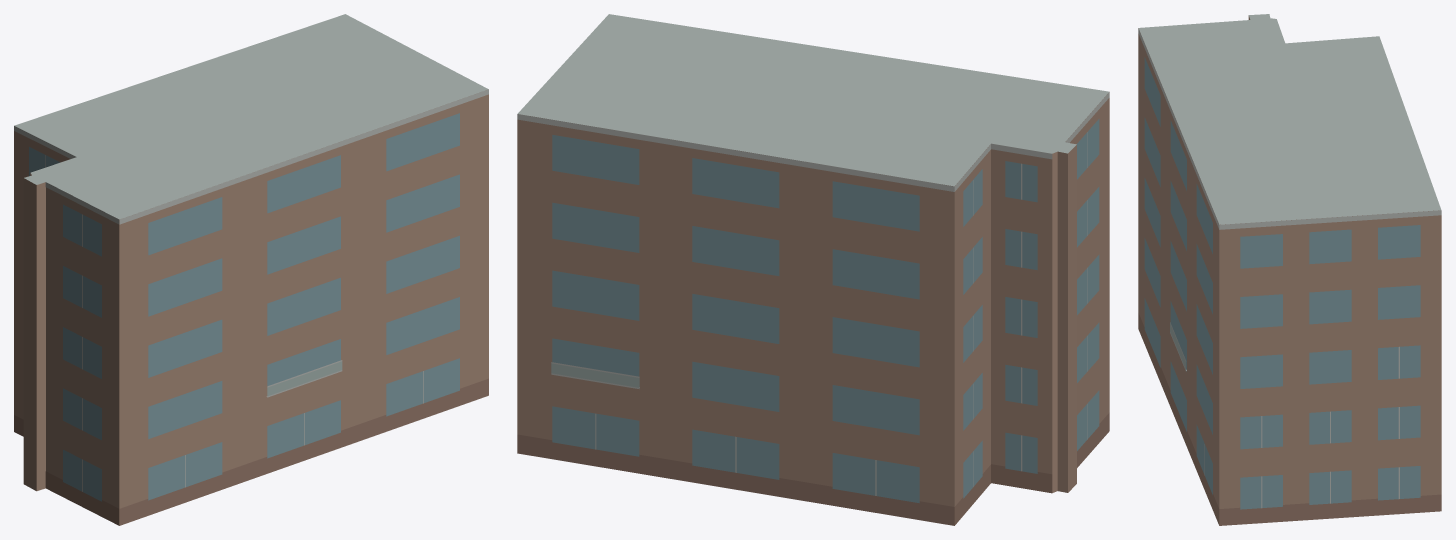
File: survey-upis-32561198.glb
3 views of the same model, side by side, from view 1: azimuth 30°, elevation 25°; view 2: azimuth 150°, elevation 25°; view 3: azimuth 270°, elevation 25° (orthographic). The views are drawn at different scales.
Parts seen in each view (by area): view 1: survey-upis-32561198.tmp; view 2: survey-upis-32561198.tmp; view 3: survey-upis-32561198.tmp.
Part boxes in pixels (<box>): survey-upis-32561198.tmp: <box>14,14,488,525</box>; survey-upis-32561198.tmp: <box>517,14,1109,525</box>; survey-upis-32561198.tmp: <box>1138,14,1441,525</box>.
Size of the model in its own units: 21.94 by 14.6 by 13.33.
